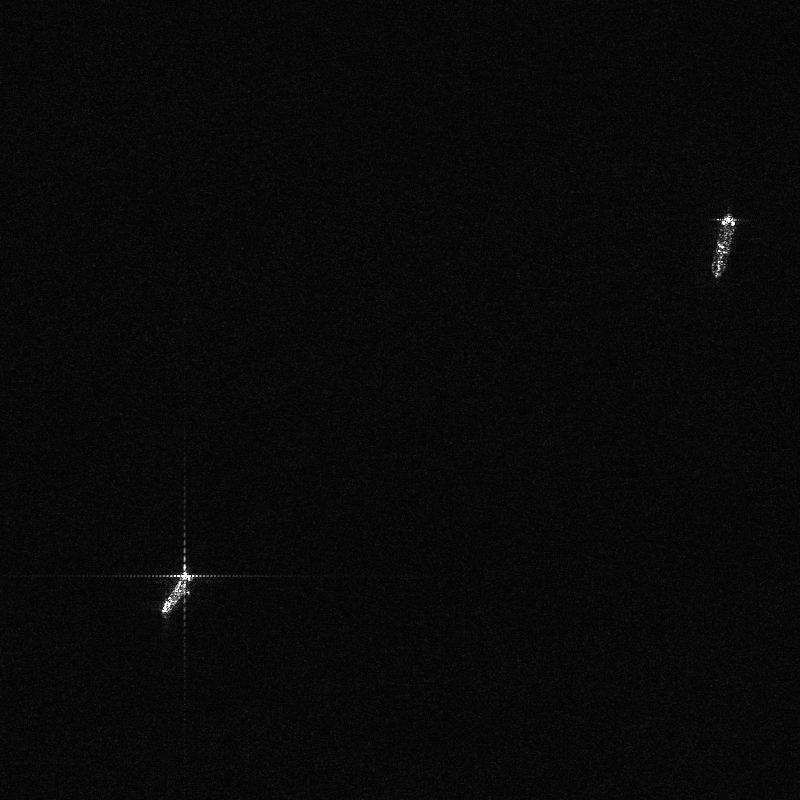ship: (711, 212, 735, 277), (161, 572, 192, 614)
